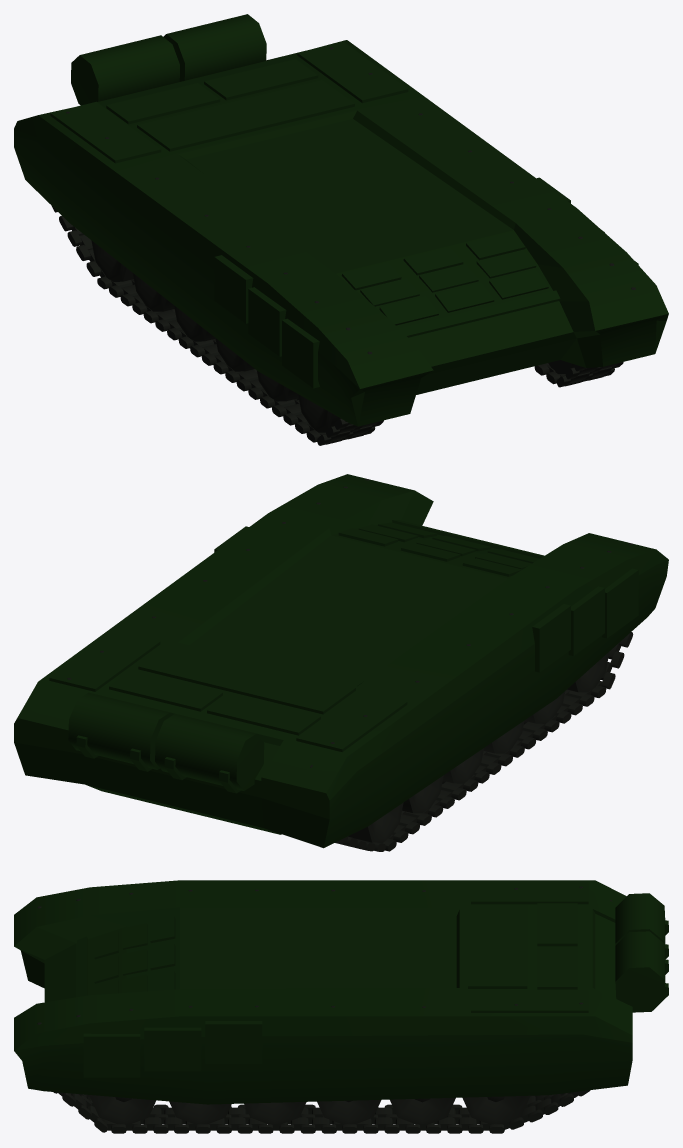
3 views of the same model, one above another, from view 1: azimuth 30°, elevation 25°; view 2: azimuth 150°, elevation 25°; view 3: azimuth 270°, elevation 25° (orthographic). The views are drawn at different scales.
Visible parts, largest first — view 1: tank, wheel_2_2, wheel_7_2, wheel_6_2; view 2: tank, wheel_7_2, wheel_6_2, wheel_2_2, wheel_5_2, wheel_4_2; view 3: tank, wheel_7_1, wheel_2_1, wheel_6_1, wheel_5_1, wheel_4_1, wheel_3_1, Connect_4_9, Connect_4_6, Connect_4_18, Connect_4_2, Connect_4_15 (+4 smaller).
Boxes of the visible parts, x1=… form: tank: x1=14, y1=14, x2=668, y2=426; wheel_2_2: x1=298, y1=394, x2=340, y2=432; wheel_7_2: x1=91, y1=240, x2=133, y2=281; wheel_6_2: x1=132, y1=273, x2=174, y2=311; tank: x1=14, y1=474, x2=668, y2=848; wheel_7_2: x1=348, y1=802, x2=403, y2=842; wheel_6_2: x1=402, y1=775, x2=443, y2=813; wheel_2_2: x1=567, y1=651, x2=609, y2=692; wheel_5_2: x1=443, y1=748, x2=483, y2=783; wheel_4_2: x1=483, y1=720, x2=524, y2=753; tank: x1=14, y1=880, x2=668, y2=1104; wheel_7_1: x1=462, y1=1095, x2=530, y2=1124; wheel_2_1: x1=89, y1=1095, x2=156, y2=1124; wheel_6_1: x1=390, y1=1097, x2=455, y2=1124; wheel_5_1: x1=317, y1=1099, x2=381, y2=1124; wheel_4_1: x1=244, y1=1102, x2=306, y2=1124; wheel_3_1: x1=169, y1=1101, x2=231, y2=1124; Connect_4_9: x1=374, y1=1104, x2=399, y2=1133; Connect_4_6: x1=228, y1=1104, x2=252, y2=1133; Connect_4_18: x1=143, y1=1104, x2=168, y2=1133; Connect_4_2: x1=291, y1=1104, x2=315, y2=1133; Connect_4_15: x1=437, y1=1104, x2=462, y2=1133.
Size of the model in its own units: 370 by 169 by 715.
